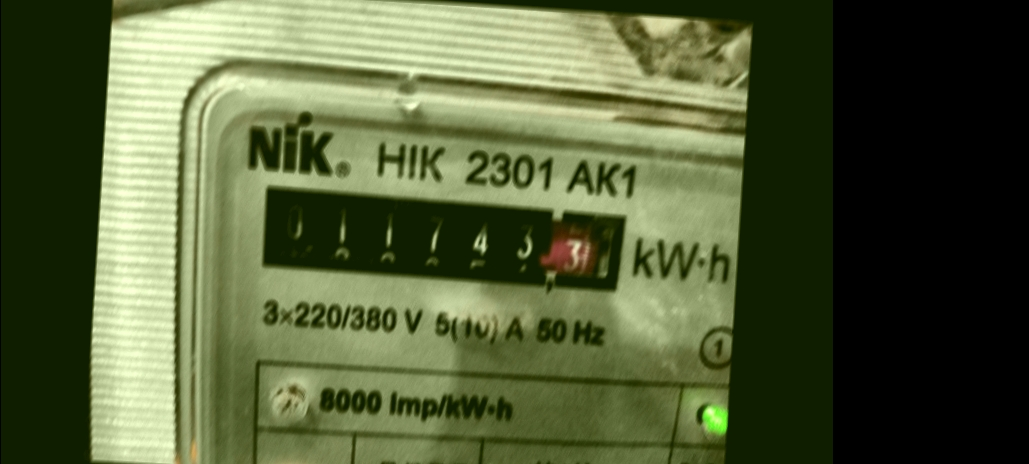0: (282, 201, 307, 242), (332, 203, 353, 246)
1: (379, 207, 397, 249)
3: (513, 219, 536, 263), (561, 235, 583, 274)
4: (469, 216, 491, 257)
7: (422, 210, 447, 256)
screen: (241, 172, 635, 303)
